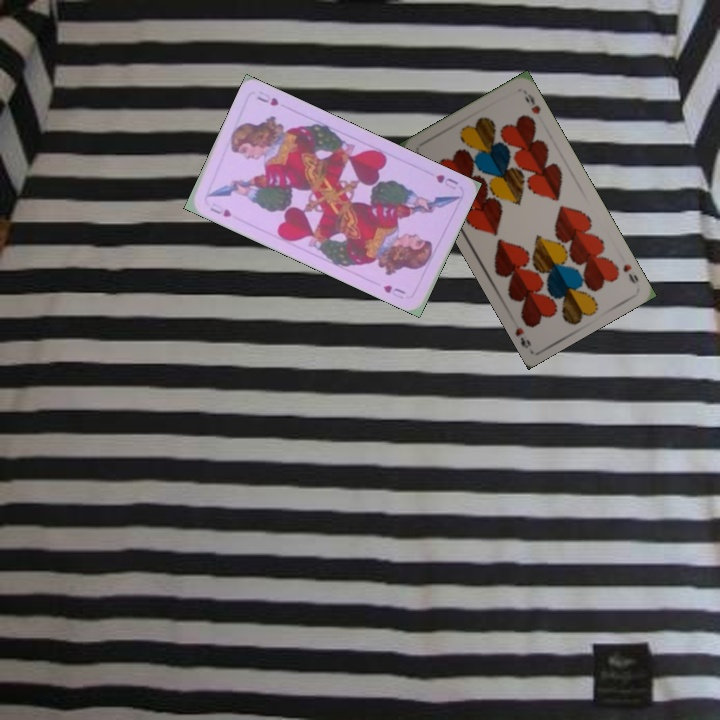H9: (619, 260, 641, 287)
HU: (432, 170, 461, 192), (206, 199, 234, 220)
